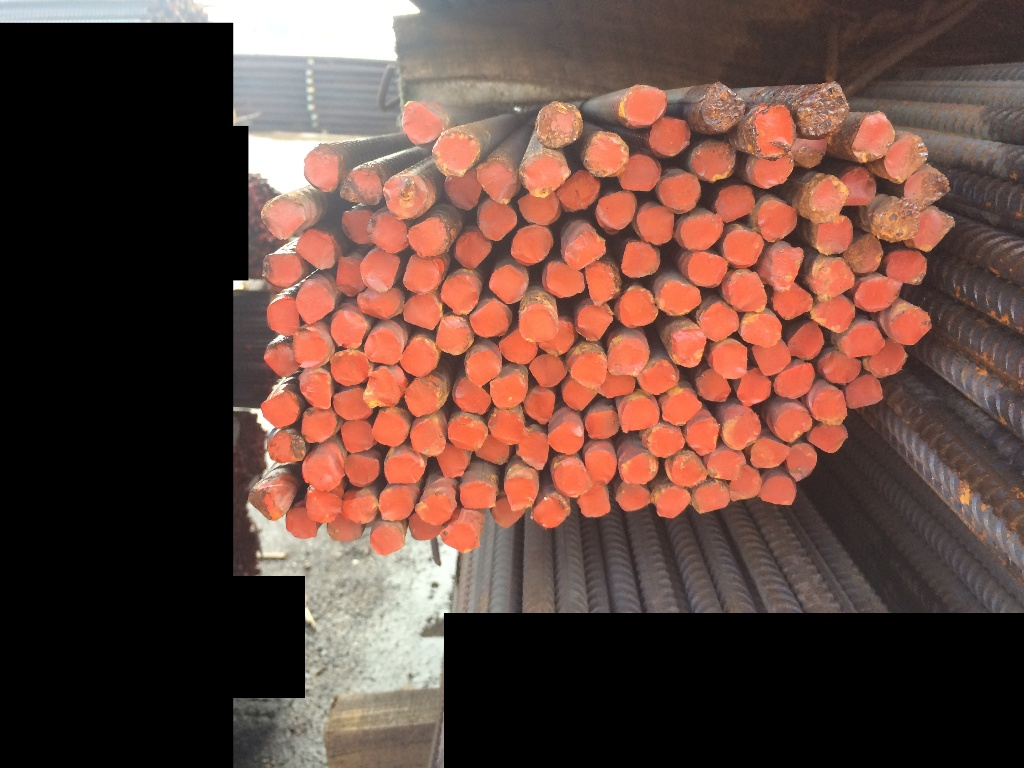dipstick: (797, 80, 850, 137), (746, 103, 794, 159), (520, 151, 571, 198), (697, 83, 743, 132), (535, 100, 582, 147), (853, 112, 895, 161), (433, 133, 479, 177), (886, 134, 927, 183), (385, 176, 429, 220), (584, 131, 626, 177), (874, 200, 920, 240), (904, 170, 950, 210), (261, 197, 304, 239), (691, 139, 734, 181), (813, 256, 854, 299), (809, 177, 849, 221), (369, 211, 409, 254), (403, 102, 443, 145), (296, 281, 335, 325), (476, 163, 518, 203), (607, 337, 649, 377), (622, 85, 665, 124), (855, 278, 901, 314), (619, 153, 660, 193), (727, 272, 766, 314), (297, 228, 335, 271), (304, 146, 339, 192), (410, 218, 449, 259), (544, 262, 585, 301), (619, 289, 660, 328), (512, 227, 554, 265), (759, 200, 797, 242), (302, 453, 345, 490), (810, 295, 853, 332), (658, 281, 702, 317), (357, 286, 403, 320), (362, 251, 400, 292), (659, 174, 700, 212), (649, 118, 690, 156), (403, 253, 440, 295), (723, 407, 759, 450), (890, 309, 933, 345), (679, 216, 723, 251), (768, 245, 803, 289), (479, 201, 518, 240), (400, 339, 439, 378), (699, 303, 739, 341), (597, 190, 635, 230), (688, 252, 728, 290), (845, 234, 883, 274), (749, 154, 793, 188), (551, 459, 590, 497), (814, 215, 853, 253), (332, 309, 368, 350), (565, 231, 607, 266), (771, 285, 813, 320), (342, 170, 381, 207), (442, 276, 479, 315), (576, 303, 613, 342), (562, 171, 599, 210), (444, 171, 481, 210), (724, 230, 764, 266), (885, 251, 927, 285), (365, 328, 403, 365), (788, 323, 825, 361), (869, 340, 907, 377), (292, 331, 331, 367), (471, 301, 510, 337), (670, 328, 706, 367), (334, 386, 374, 421), (843, 323, 884, 357), (405, 380, 442, 417), (300, 408, 338, 444), (490, 266, 526, 304), (518, 305, 556, 341), (262, 252, 301, 287), (504, 470, 539, 509), (529, 495, 569, 529), (811, 390, 848, 426), (637, 207, 673, 244), (791, 133, 828, 169), (331, 351, 369, 386), (438, 317, 473, 355), (775, 364, 813, 399), (622, 241, 657, 279), (411, 418, 445, 457), (663, 391, 702, 425), (739, 367, 773, 406), (267, 297, 300, 337), (267, 429, 307, 462), (337, 256, 368, 298), (585, 264, 616, 306), (718, 186, 754, 222), (841, 171, 877, 207), (449, 417, 487, 451), (638, 361, 676, 395), (299, 371, 332, 410), (439, 522, 479, 554), (741, 315, 781, 347), (519, 192, 560, 223), (490, 374, 525, 410), (847, 375, 883, 410), (249, 486, 286, 520), (368, 523, 405, 557), (517, 432, 549, 471), (264, 343, 299, 378), (374, 412, 409, 447), (713, 344, 748, 379), (262, 394, 299, 427), (457, 232, 490, 269), (404, 296, 441, 329), (529, 353, 566, 386), (753, 341, 790, 374), (692, 482, 730, 514), (787, 444, 818, 483), (810, 423, 849, 454), (345, 488, 378, 524), (622, 399, 658, 432), (571, 353, 607, 386), (776, 410, 812, 443), (621, 453, 659, 484), (750, 440, 790, 469), (380, 487, 414, 521), (490, 412, 525, 445), (578, 484, 611, 519), (344, 453, 380, 485), (686, 419, 718, 455), (452, 385, 490, 415), (386, 454, 425, 483), (822, 354, 861, 383), (306, 491, 341, 523), (697, 371, 732, 403), (585, 449, 616, 485), (648, 426, 684, 457), (656, 488, 692, 519), (708, 451, 746, 480), (468, 351, 500, 385), (761, 477, 796, 508), (416, 494, 452, 524), (670, 457, 706, 487), (459, 481, 496, 510), (730, 467, 761, 501), (340, 421, 373, 452), (285, 509, 319, 539), (585, 412, 620, 441), (550, 425, 583, 455), (490, 497, 523, 527), (526, 390, 555, 424), (341, 210, 369, 245), (616, 484, 650, 512), (439, 449, 470, 477), (327, 519, 364, 542), (477, 442, 509, 464), (409, 517, 439, 540)
